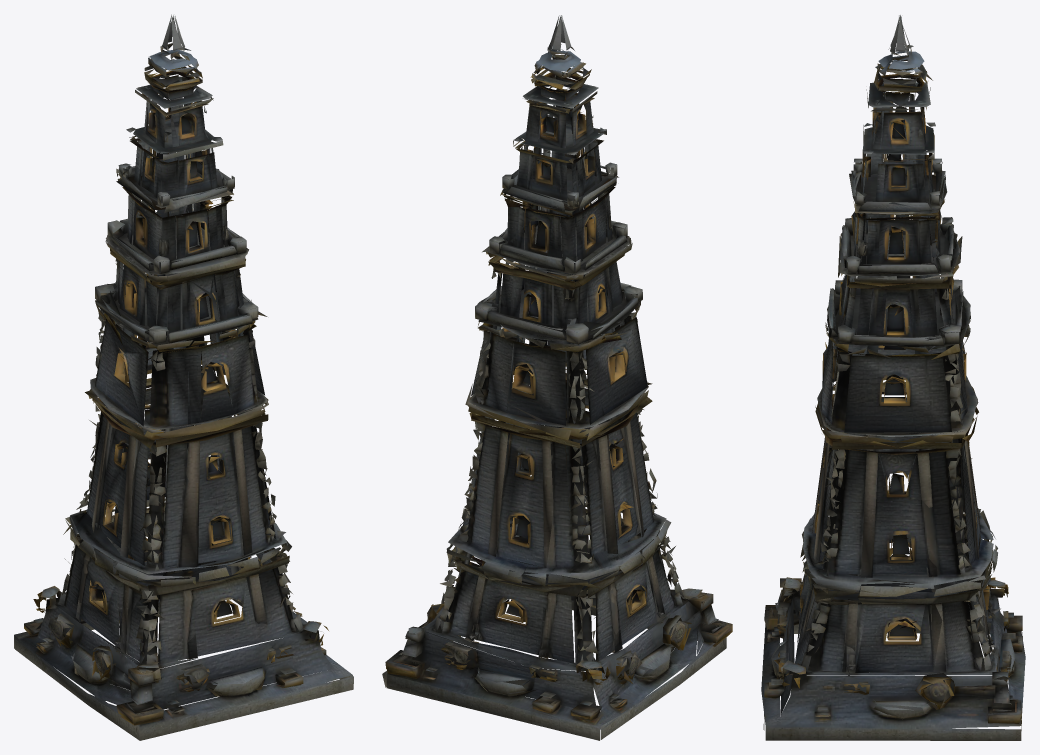
Rendered from ch7_city_of_echoes_tower_LOD2.glb.
The picture shows the model from 3 angles, left to right: view 1: azimuth 30°, elevation 25°; view 2: azimuth 150°, elevation 25°; view 3: azimuth 270°, elevation 25°; orthographic projection. The views are drawn at different scales.
Visible parts, largest first — view 1: tripo_node_c2a44c5a-c4bc-4a38-bb47-af0087f2003a; view 2: tripo_node_c2a44c5a-c4bc-4a38-bb47-af0087f2003a; view 3: tripo_node_c2a44c5a-c4bc-4a38-bb47-af0087f2003a.
Part boxes in pixels (bbox=[...]): tripo_node_c2a44c5a-c4bc-4a38-bb47-af0087f2003a: bbox=[14, 14, 353, 740]; tripo_node_c2a44c5a-c4bc-4a38-bb47-af0087f2003a: bbox=[382, 15, 732, 740]; tripo_node_c2a44c5a-c4bc-4a38-bb47-af0087f2003a: bbox=[761, 15, 1025, 740].
Size of the model in its own units: 0.3586 by 0.9982 by 0.3574.
1 material, 1 textured.
